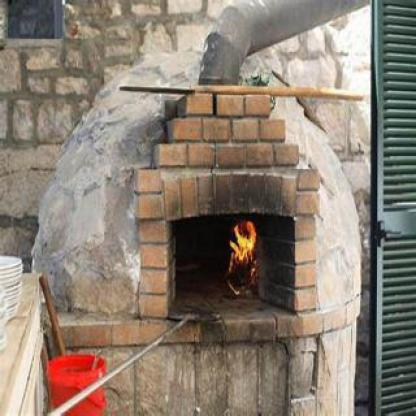fire: (228, 216, 258, 283)
